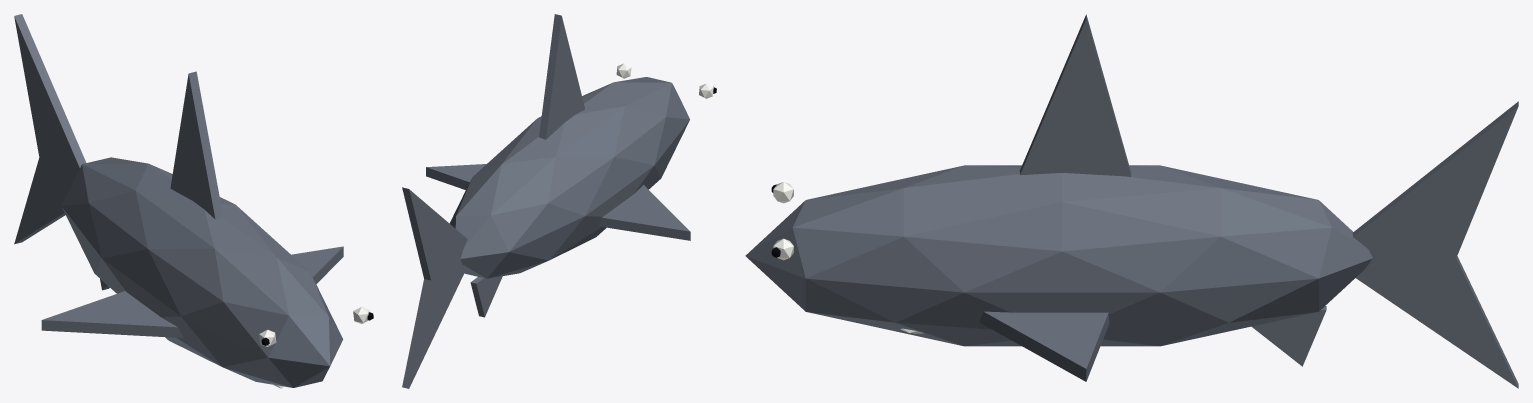
Rendered from shark.glb.
3 views of the same model, side by side, from view 1: azimuth 30°, elevation 25°; view 2: azimuth 150°, elevation 25°; view 3: azimuth 270°, elevation 25° (orthographic). The views are drawn at different scales.
Parts seen in each view (by area): view 1: shark; view 2: shark; view 3: shark.
Boxes of the visible parts, box(x1,y1,x2,y2) form: shark: box(14, 14, 373, 388); shark: box(402, 14, 716, 388); shark: box(745, 14, 1518, 388).
Size of the model in its own units: 0.9 by 0.85 by 1.61.
